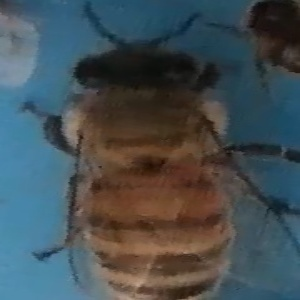bee: (40, 10, 252, 300)
